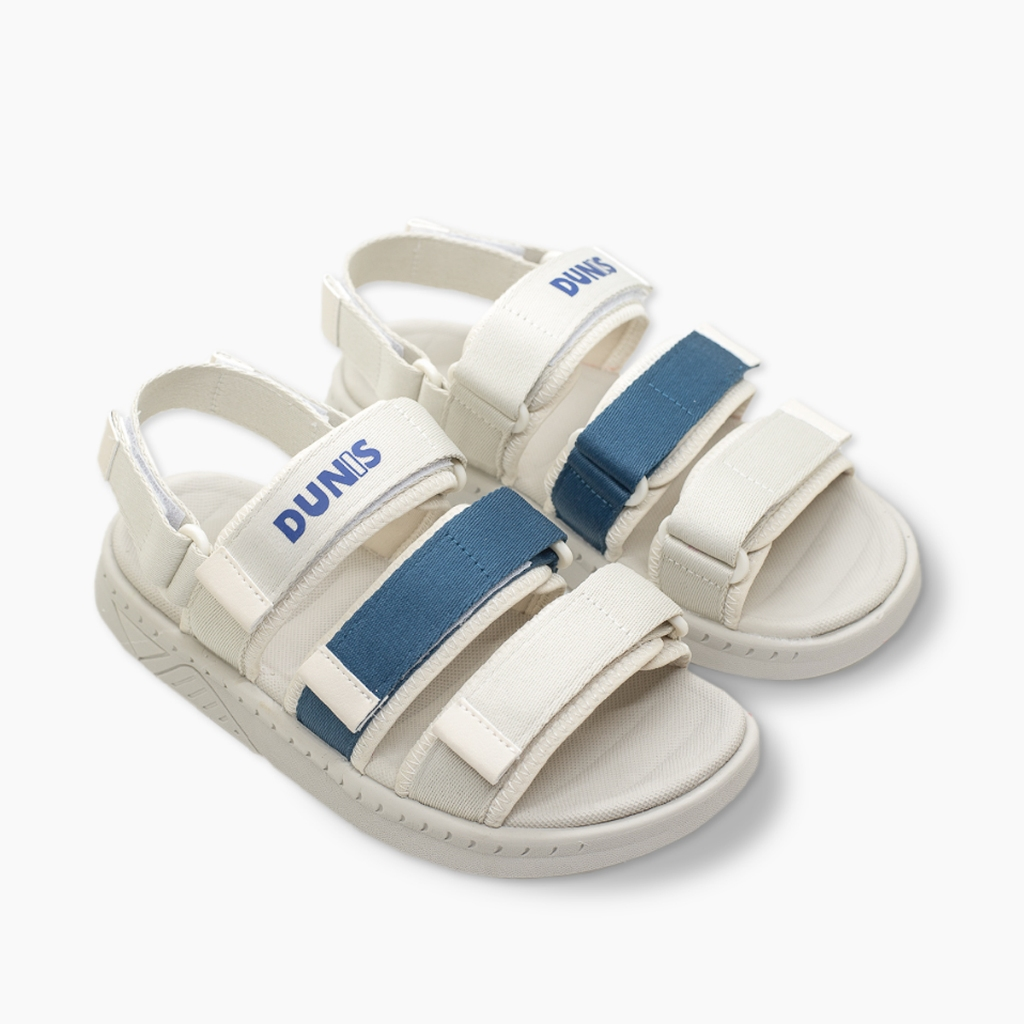sandals: (89, 353, 760, 877), (319, 226, 923, 678)
